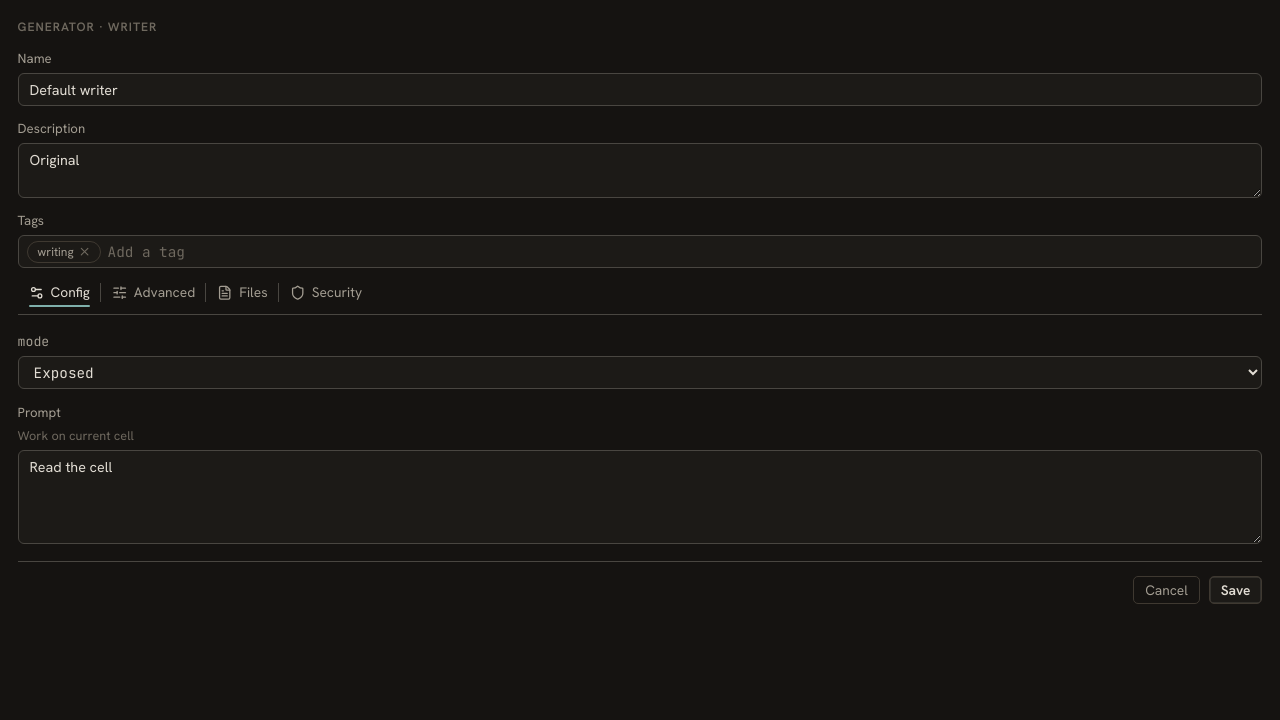
Test case: Shared RunnerEditor › does not show option disclosures for an unenforced saved commands grant (P4R05)
Click the tab "Security" at (326, 292), box [279, 282, 373, 302]
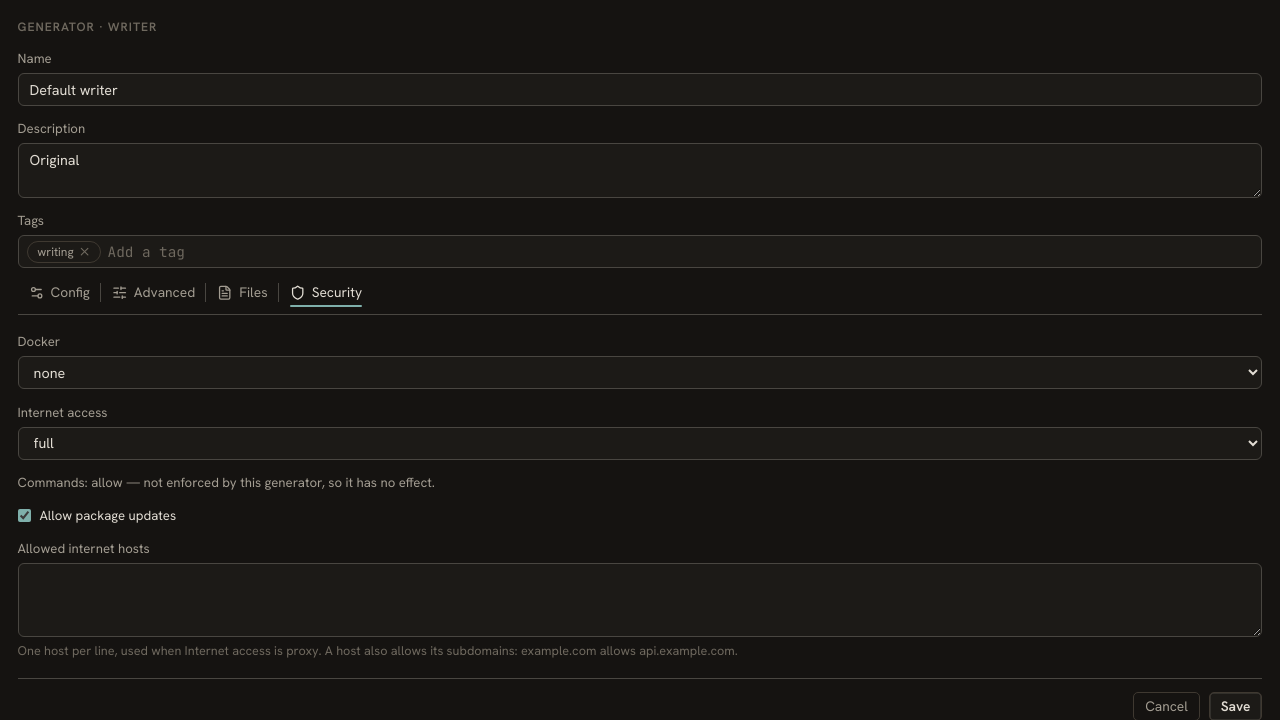
Result: the text "not enforced by this generator" is shown at [123, 474, 435, 491]
